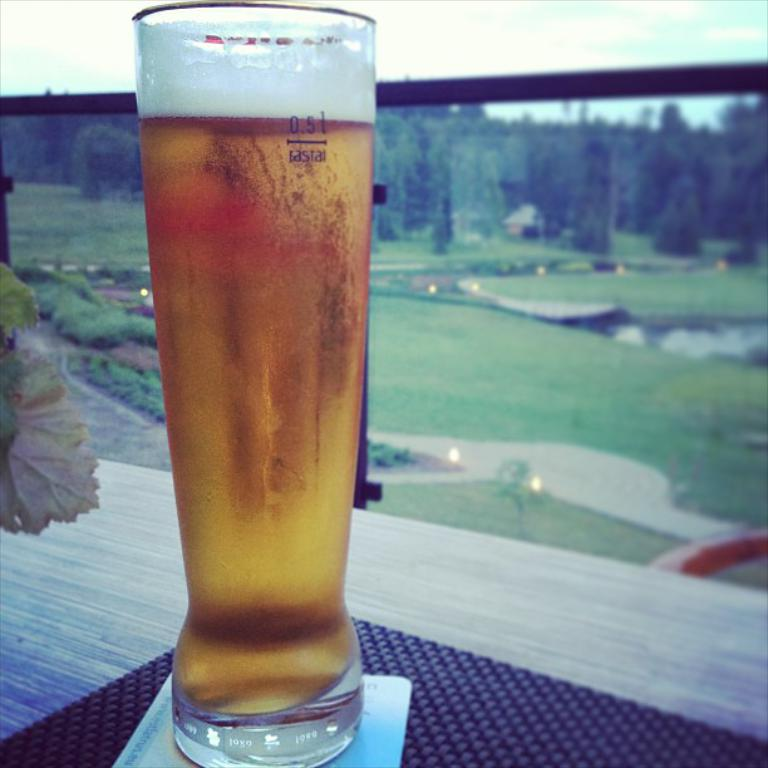Beer: (139, 22, 372, 719)
